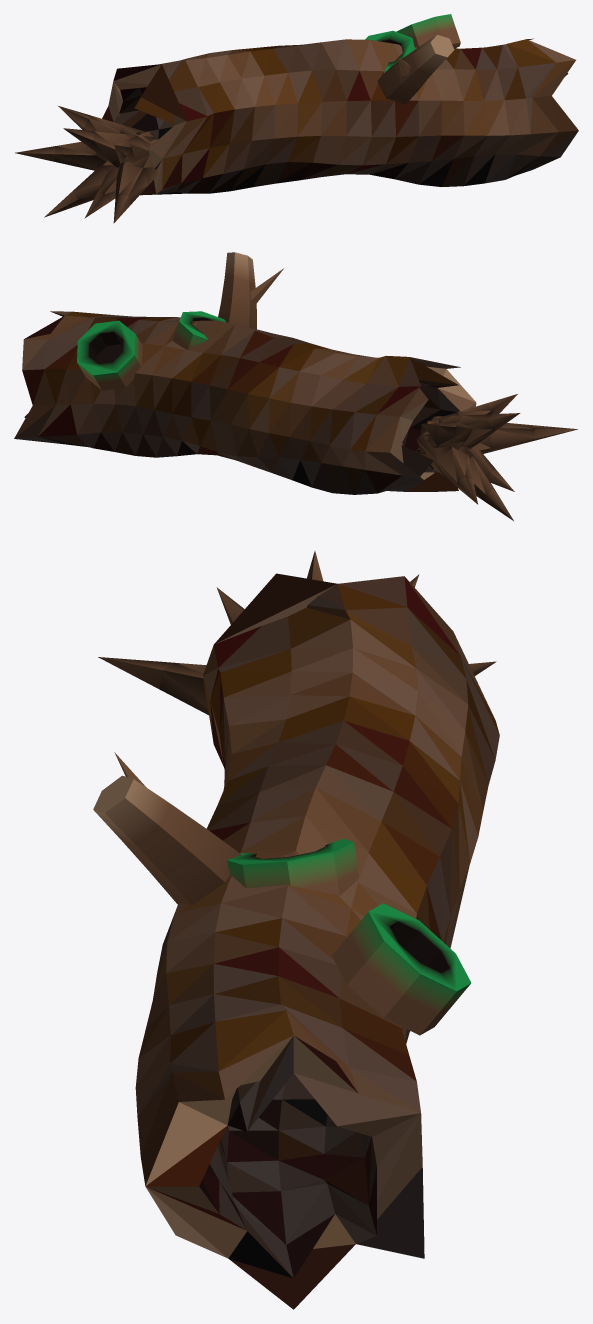
File: pohon_tumbang_uprooted_rainforest_357029 (1).glb
3 views of the same model, one above another, from view 1: azimuth 30°, elevation 25°; view 2: azimuth 150°, elevation 25°; view 3: azimuth 270°, elevation 25° (orthographic). The views are drawn at different scales.
Visible parts, largest first — view 1: Tunggul_Akar_Tumbang; view 2: Tunggul_Akar_Tumbang; view 3: Tunggul_Akar_Tumbang.
Part boxes in pixels (box(x1,y1,x2,y2)): Tunggul_Akar_Tumbang: box(15, 14, 578, 223); Tunggul_Akar_Tumbang: box(14, 252, 577, 520); Tunggul_Akar_Tumbang: box(93, 551, 499, 1309).
Bounding box in the file's own units: 7.66 × 2.86 × 2.71.
